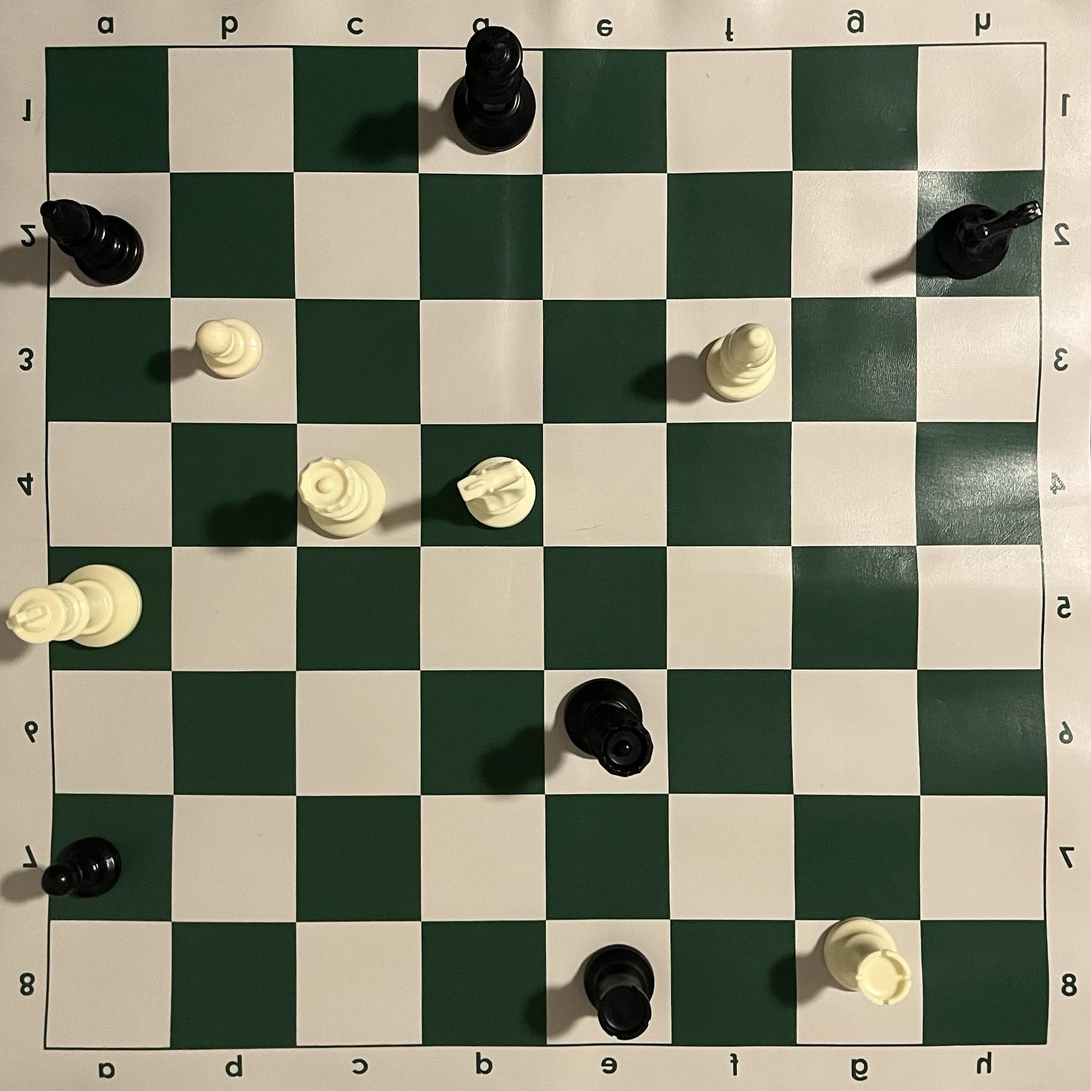black_bishop: (40, 199, 144, 286)
black_king: (452, 26, 536, 153)
black_knight: (931, 199, 1042, 280)
black_pawn: (40, 837, 122, 900)
black_queen: (563, 677, 655, 779)
black_rook: (583, 944, 655, 1040)
white_bishop: (705, 322, 778, 403)
white_king: (6, 563, 143, 649)
white_knight: (456, 456, 537, 530)
white_pawn: (194, 318, 265, 380)
white_queen: (297, 456, 387, 540)
white_rook: (821, 916, 912, 1009)
